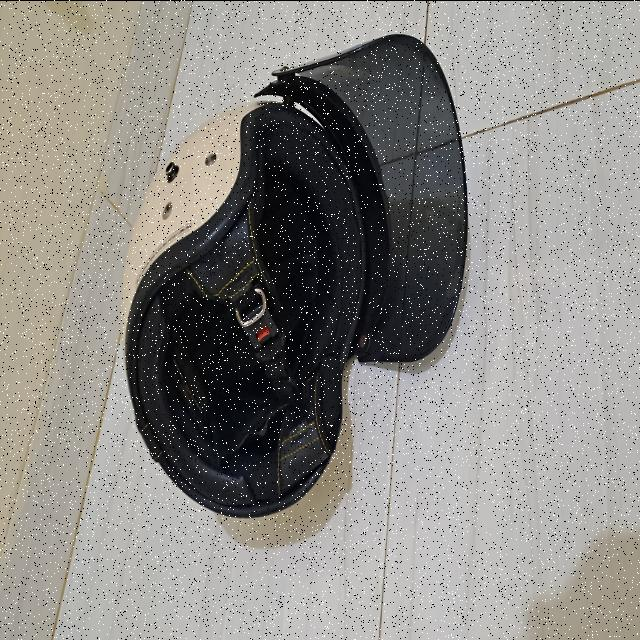Helmet: (122, 46, 467, 519)
